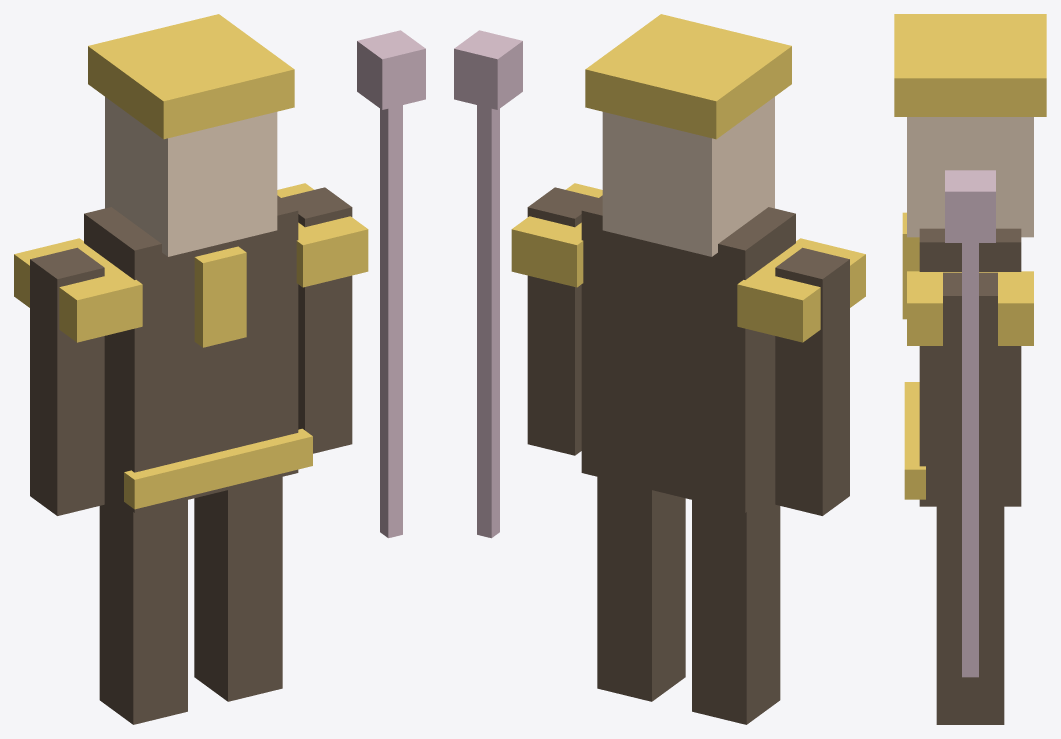
Rendered from 11_brant_glassroot_watcher_at_spire.glb.
The picture shows the model from 3 angles, left to right: view 1: azimuth 30°, elevation 25°; view 2: azimuth 150°, elevation 25°; view 3: azimuth 270°, elevation 25°; orthographic projection.
Visible parts, largest first — view 1: Brant Glassroot, Watcher at Spire; view 2: Brant Glassroot, Watcher at Spire; view 3: Brant Glassroot, Watcher at Spire.
Part boxes in pixels (left/top/right/bottom): Brant Glassroot, Watcher at Spire: left=14, top=14, right=425, bottom=724; Brant Glassroot, Watcher at Spire: left=454, top=14, right=865, bottom=724; Brant Glassroot, Watcher at Spire: left=894, top=14, right=1046, bottom=724.
Bounding box in the file's own units: 0.9679 × 1.59 × 0.3433.
